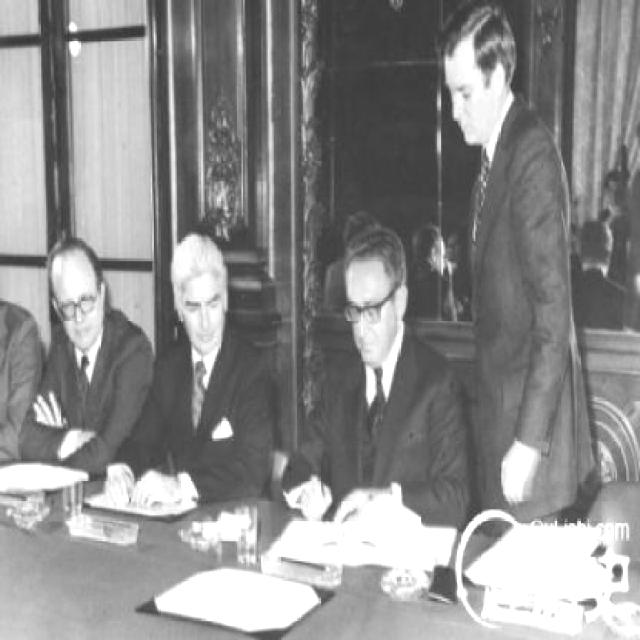face_nomask: (171, 286, 235, 368), (440, 56, 500, 142), (346, 279, 396, 366), (54, 274, 101, 351)
glasses: (55, 291, 99, 326), (343, 301, 388, 330)
hand_noglove: (332, 486, 385, 525), (498, 443, 528, 506), (132, 468, 177, 506), (31, 392, 69, 428), (302, 477, 332, 520), (105, 465, 134, 506)
head_nohelmet: (423, 11, 532, 72), (165, 214, 232, 283), (324, 232, 410, 280), (28, 228, 103, 277)
person: (417, 9, 605, 528), (297, 226, 475, 542), (131, 220, 289, 520), (15, 212, 154, 511)
